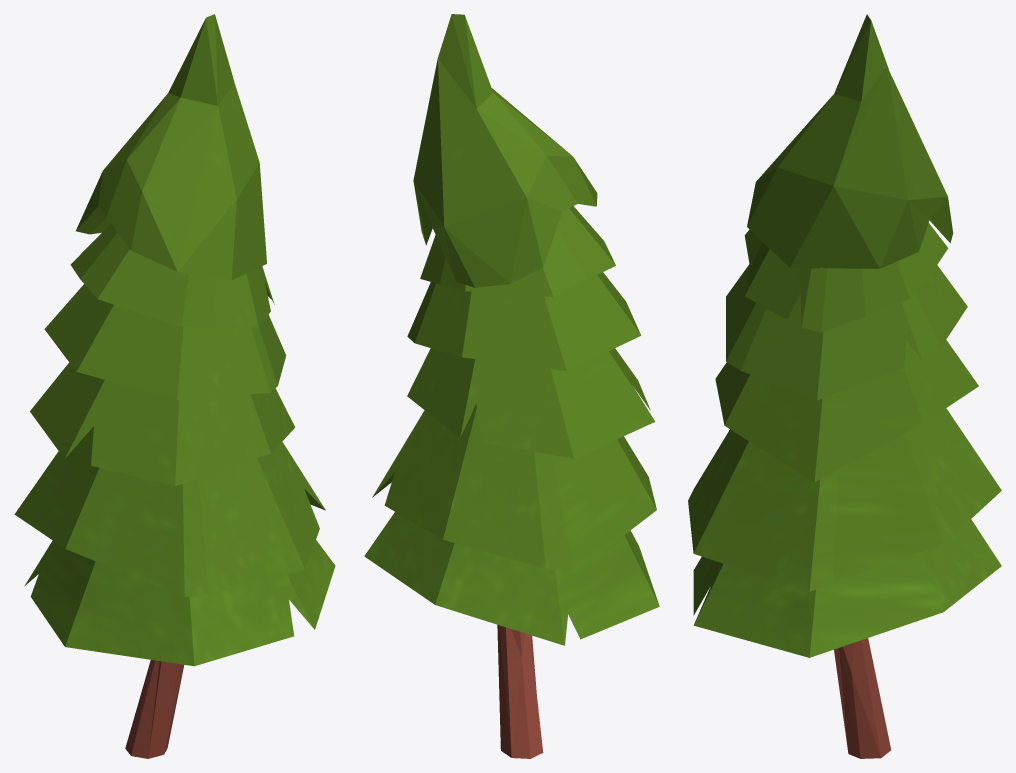
Rendered from ArbolPino.fbx.
The picture shows the model from 3 angles, left to right: view 1: azimuth 30°, elevation 25°; view 2: azimuth 150°, elevation 25°; view 3: azimuth 270°, elevation 25°; orthographic projection. The views are drawn at different scales.
Parts seen in each view (by area): view 1: ArbolPino; view 2: ArbolPino; view 3: ArbolPino.
Part boxes in pixels (x1=…): ArbolPino: x1=14, y1=14, x2=335, y2=758; ArbolPino: x1=364, y1=14, x2=659, y2=758; ArbolPino: x1=688, y1=14, x2=1001, y2=758.
Bounding box in the file's own units: 210 × 198 × 533.
Materials: 1 (1 with a texture image).
